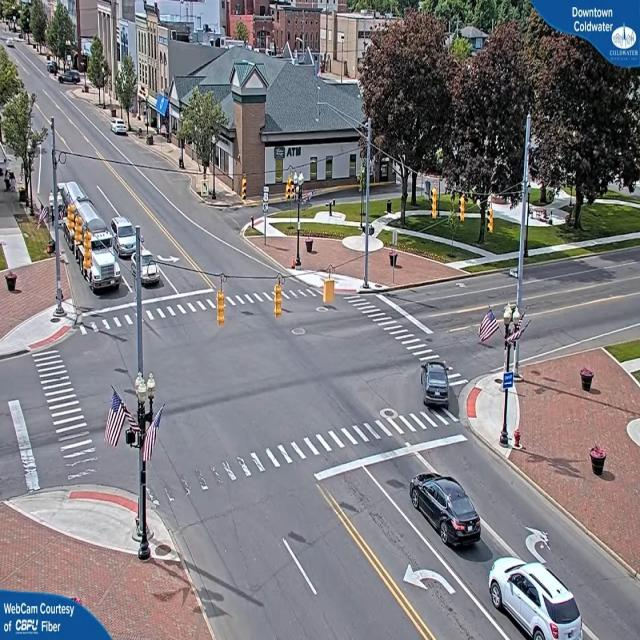car: (489, 560, 586, 640), (409, 476, 482, 551), (419, 359, 450, 406), (110, 218, 142, 257), (143, 257, 162, 287), (112, 122, 130, 138)
truck: (82, 243, 121, 293)
